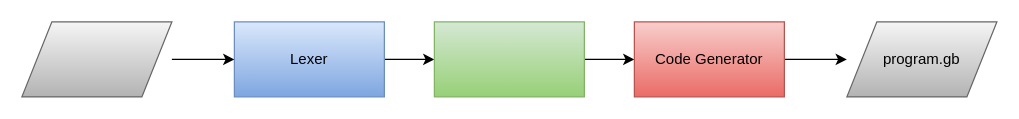
This 1019x119 diagram has some shape labels left out. The shapes that lost their labels are listed below. From the top down, each one's box as (x1, y1, x2, y2) in pixels, then its label:
(21, 21, 172, 97): program.asm
(433, 21, 584, 97): Parser
